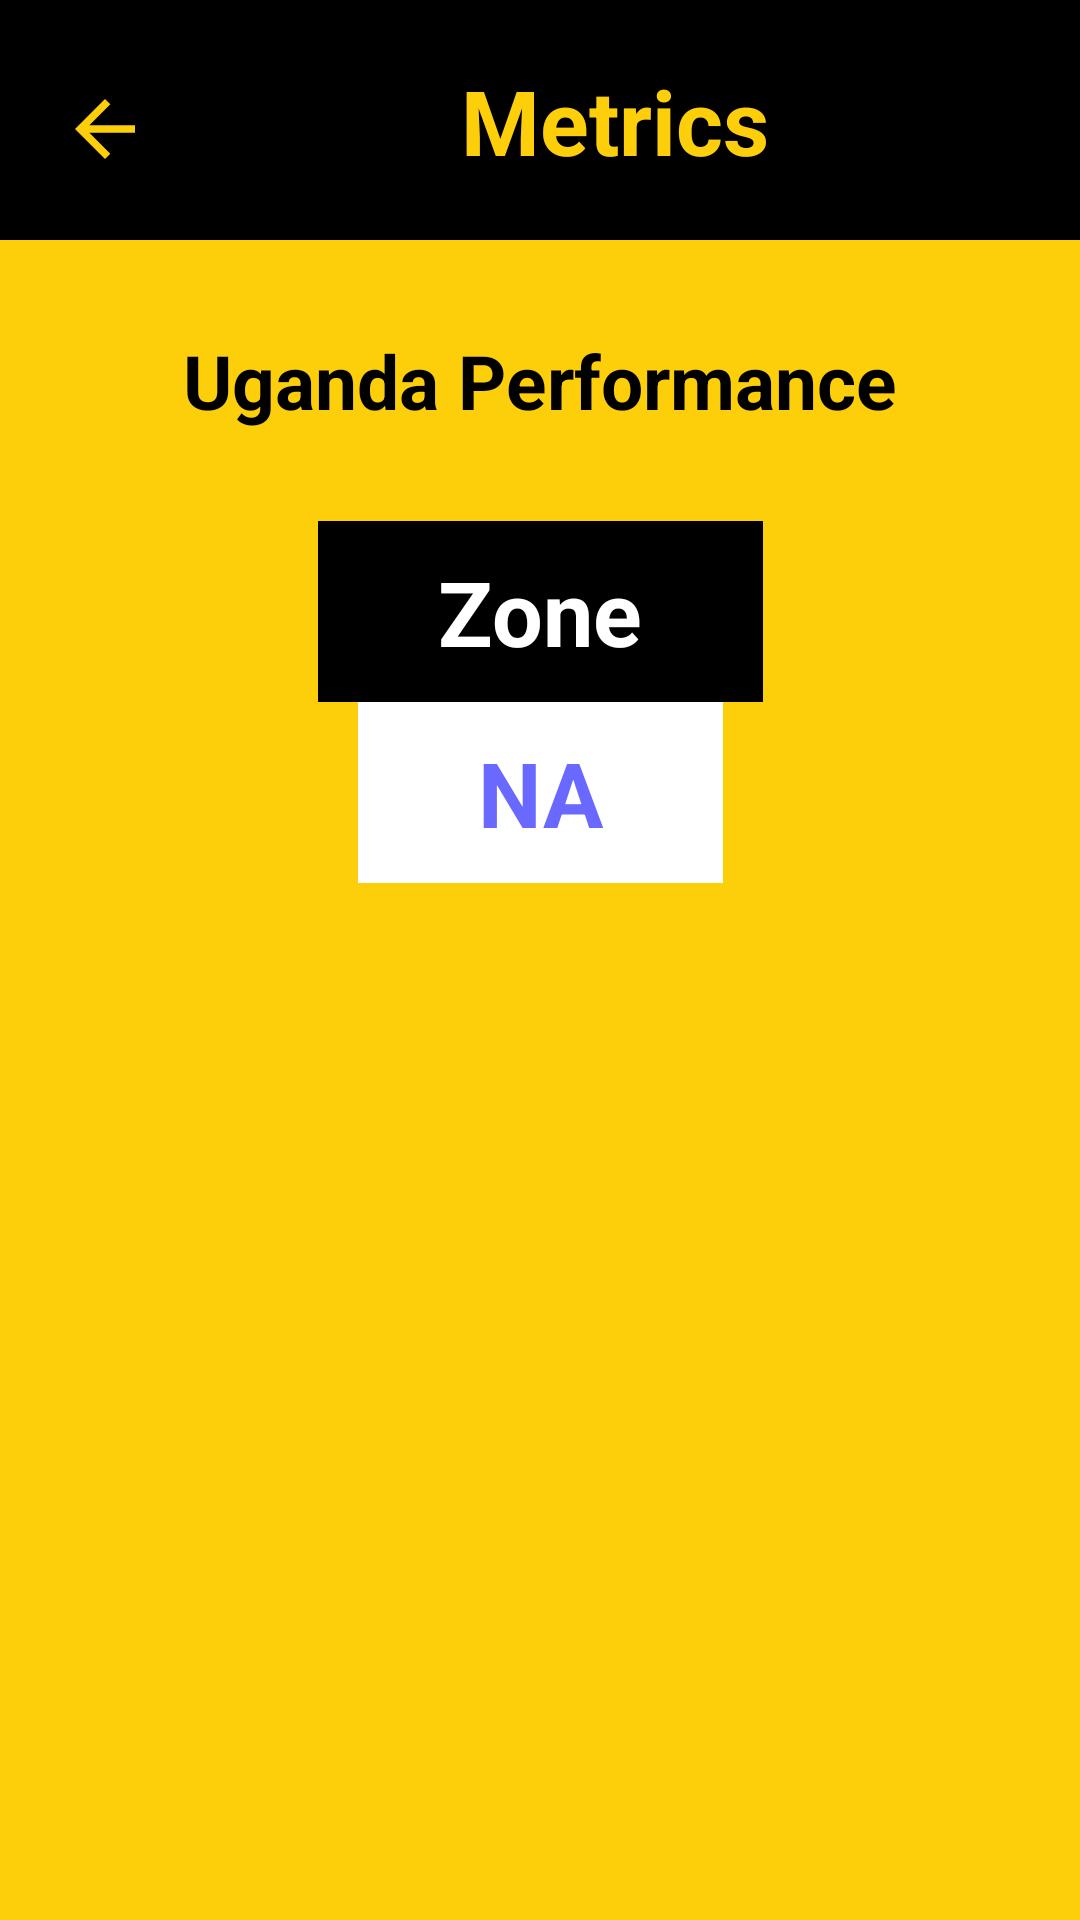

Icons on this 1080*1920 Android screen, each with its box as [left=x1, top=y1, right=x2, bottom=y2]:
arrow back: [left=75, top=99, right=135, bottom=159]
